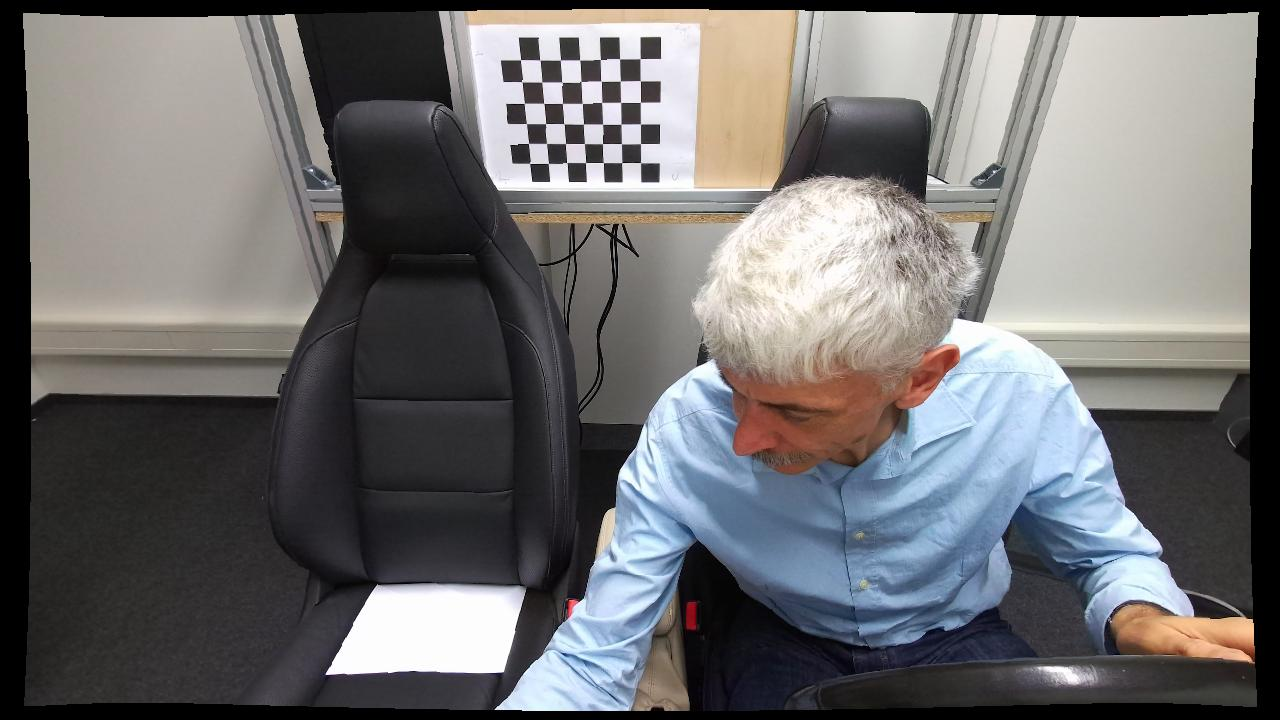Distracted: (489, 174, 1149, 710)
